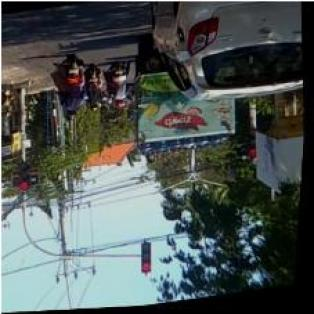Semaforo Rojo: (21, 160, 33, 191), (144, 243, 156, 274), (249, 131, 261, 162)
